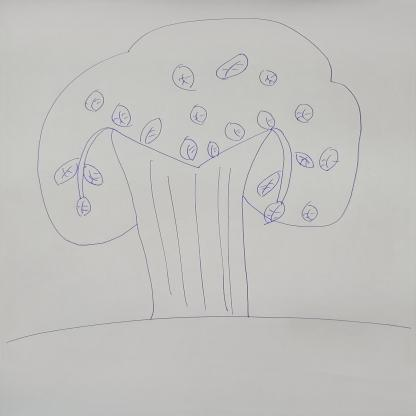branch_sharp: (109, 128, 272, 181)
crown_mushroom: (36, 17, 363, 247)
root_none: (103, 304, 286, 354)
trunk_bark: (125, 183, 248, 303)
